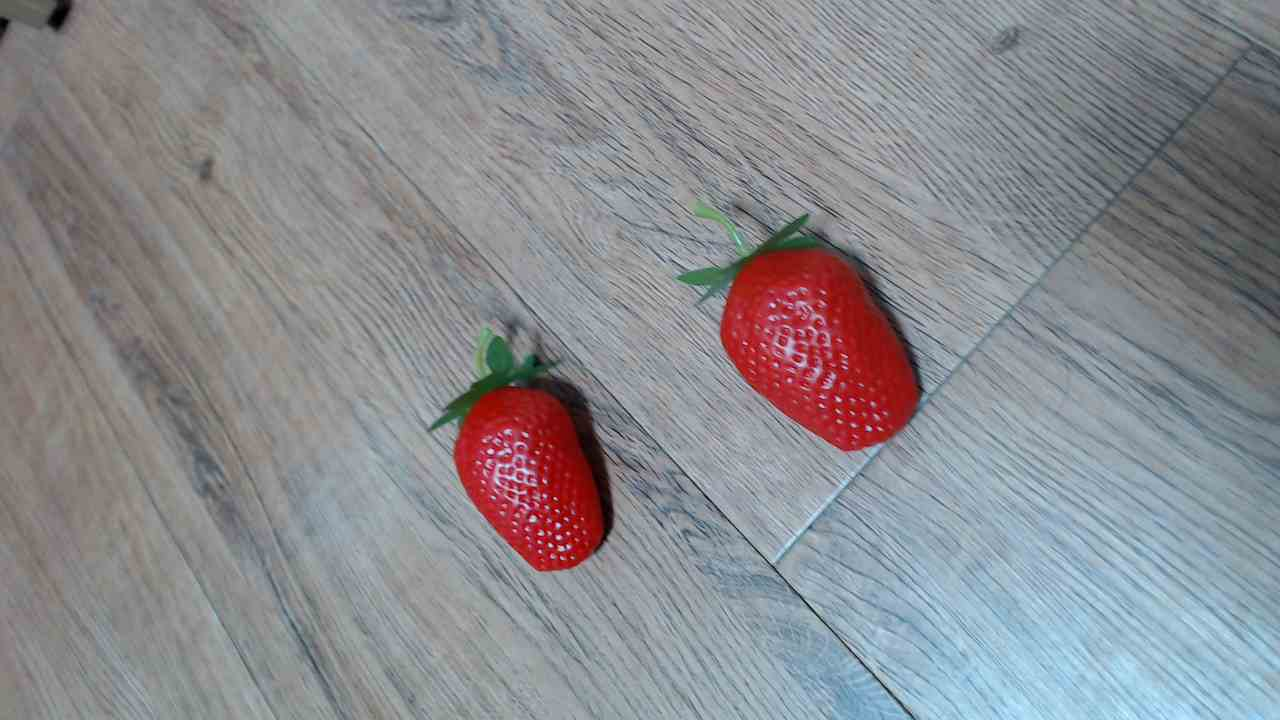strawberry: (707, 199, 929, 450), (440, 376, 615, 577)
